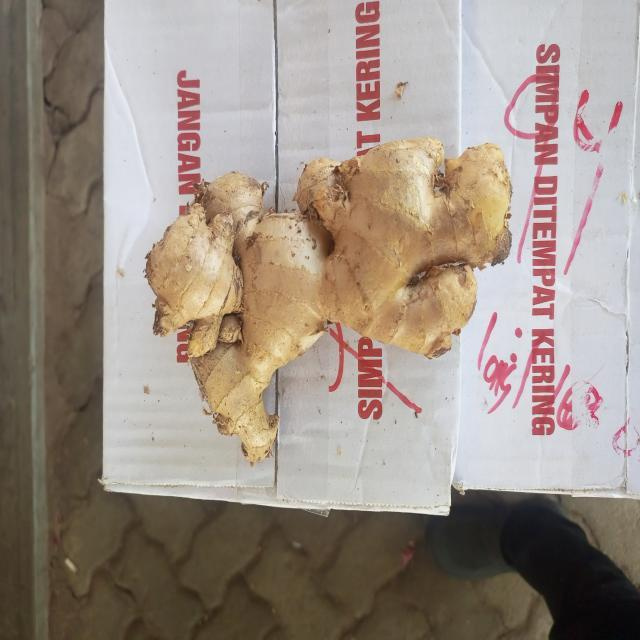ginger: (150, 142, 505, 441)
